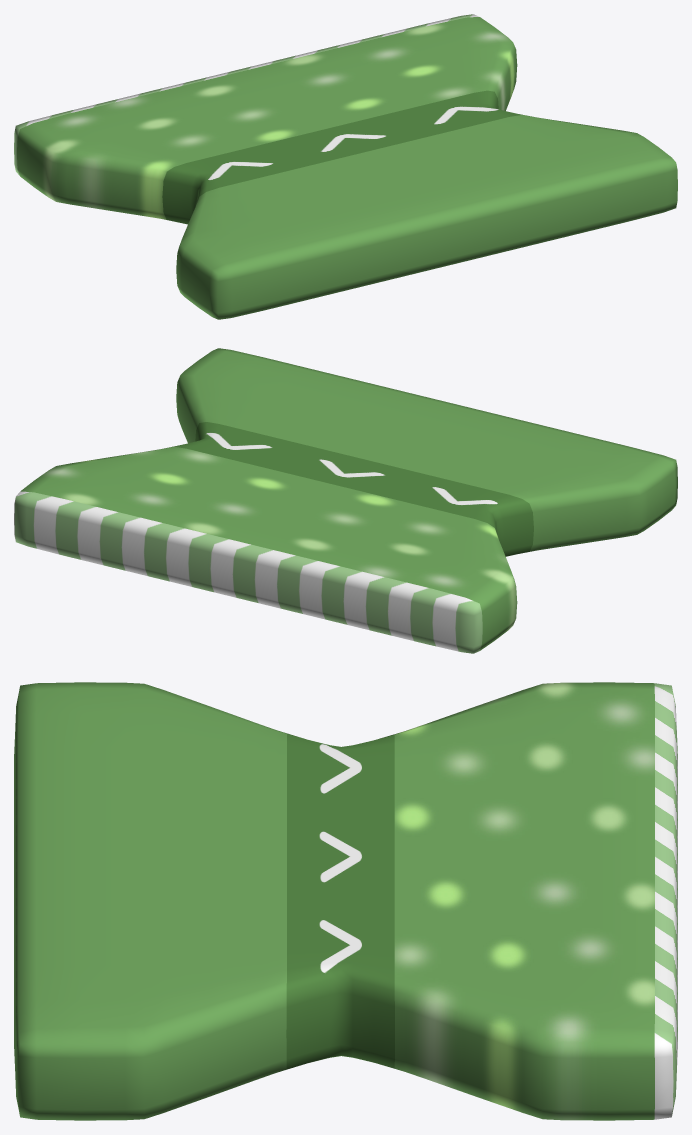
File: sector2.fbx
3 views of the same model, one above another, from view 1: azimuth 30°, elevation 25°; view 2: azimuth 150°, elevation 25°; view 3: azimuth 270°, elevation 25° (orthographic). The views are drawn at different scales.
Parts seen in each view (by area): view 1: sector2; view 2: sector2; view 3: sector2.
Part boxes in pixels (left/top/right/bottom): sector2: left=14, top=14, right=677, bottom=319; sector2: left=14, top=348, right=677, bottom=653; sector2: left=14, top=682, right=677, bottom=1120.
Bounding box in the file's own units: 103 × 11.88 × 79.08.
Materials: 1 (1 with a texture image).
